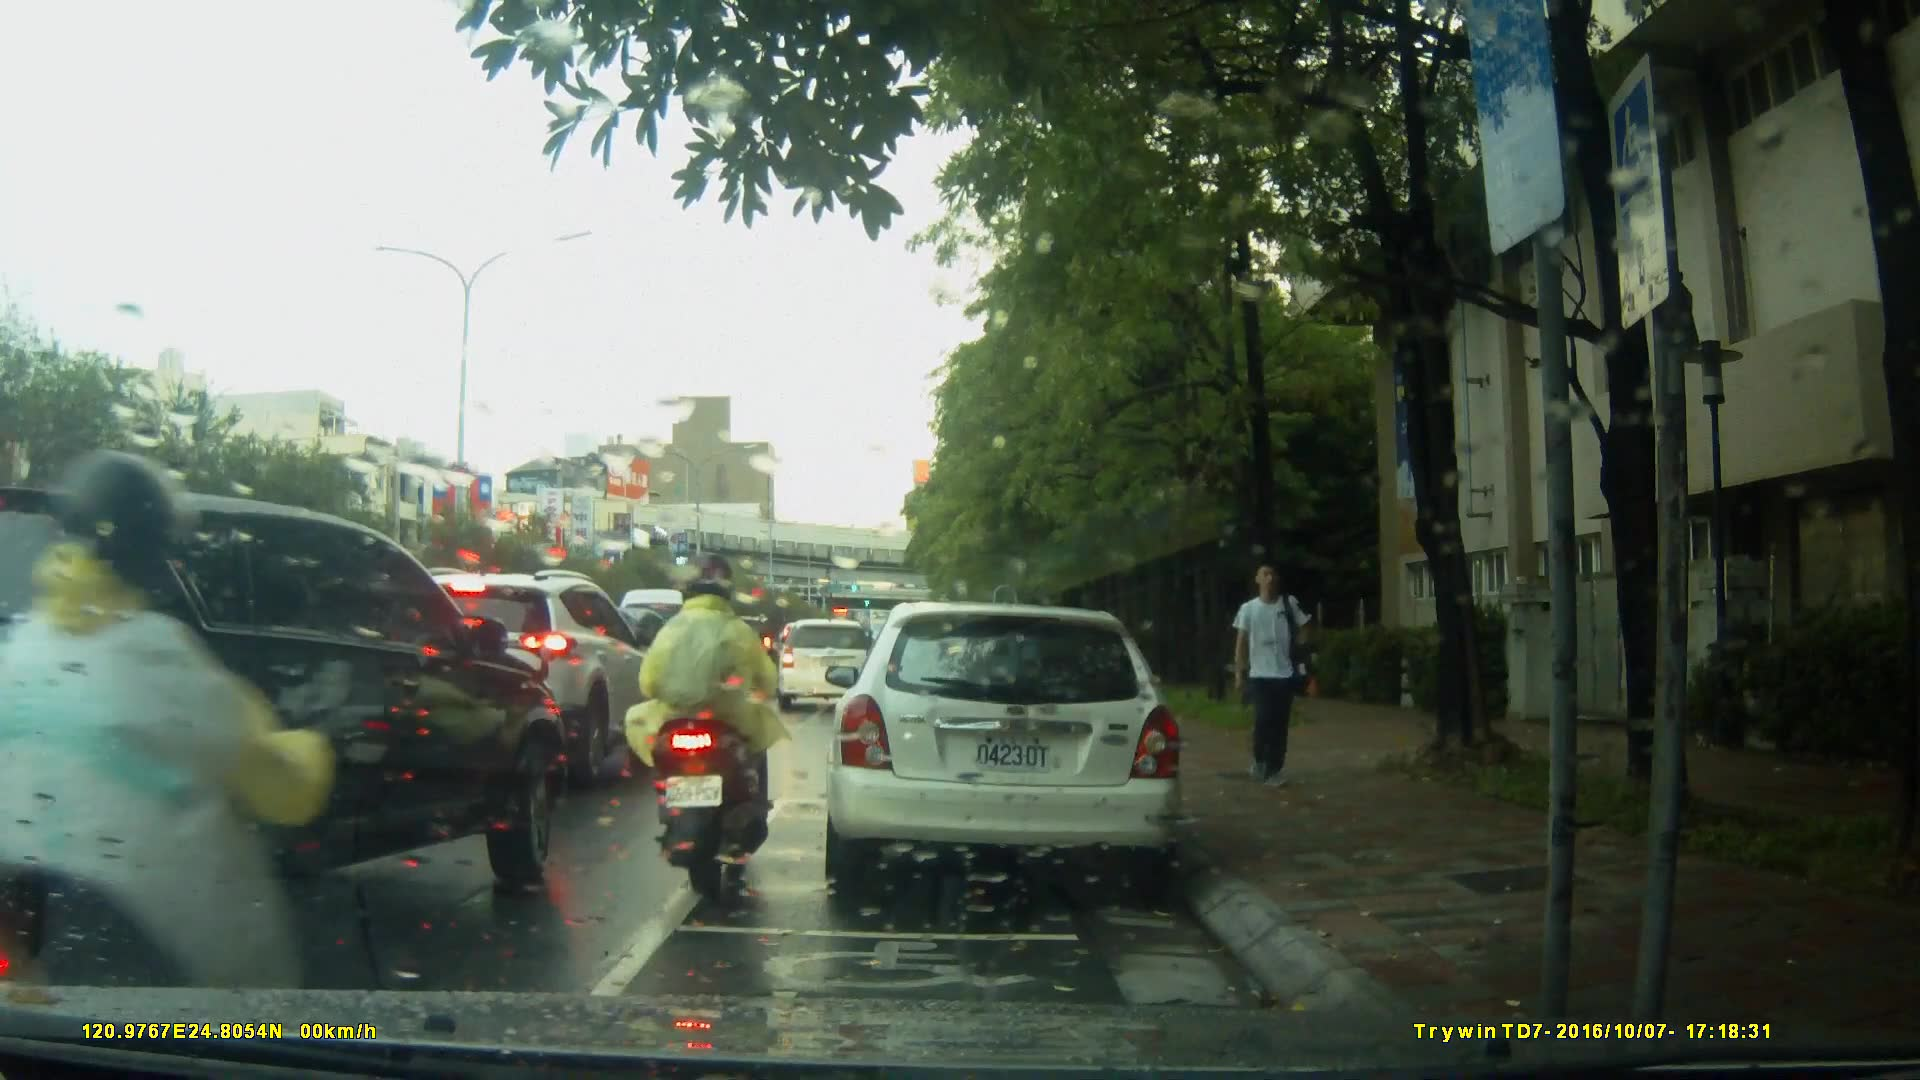pedestrian: (1223, 559, 1319, 802)
rider: (1, 460, 345, 1062), (637, 553, 792, 891)
vehicle: (1, 479, 569, 974), (820, 602, 1188, 898), (360, 566, 668, 784), (611, 587, 731, 717), (771, 617, 881, 711)
